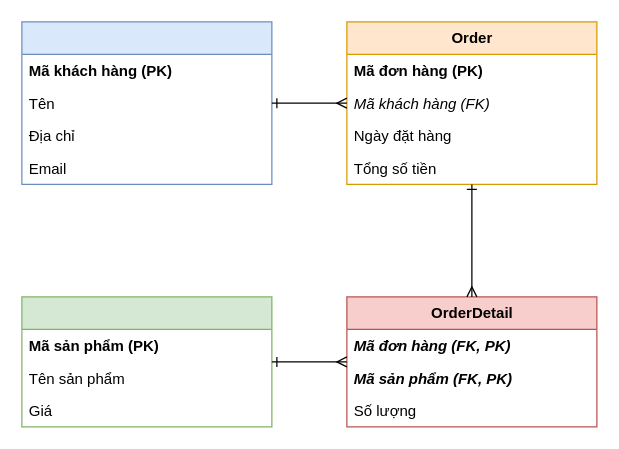
Image size: 619x449. Some labels were removed from this diagram. Each missing label, with the box of its shape:
Customer: (21, 21, 272, 184)
Product: (21, 296, 272, 427)
